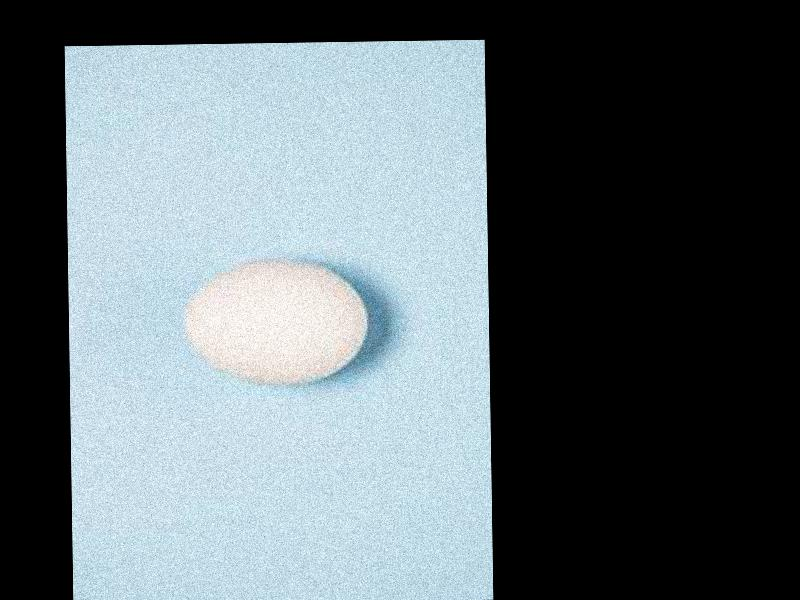Eggs: (180, 257, 368, 384)
